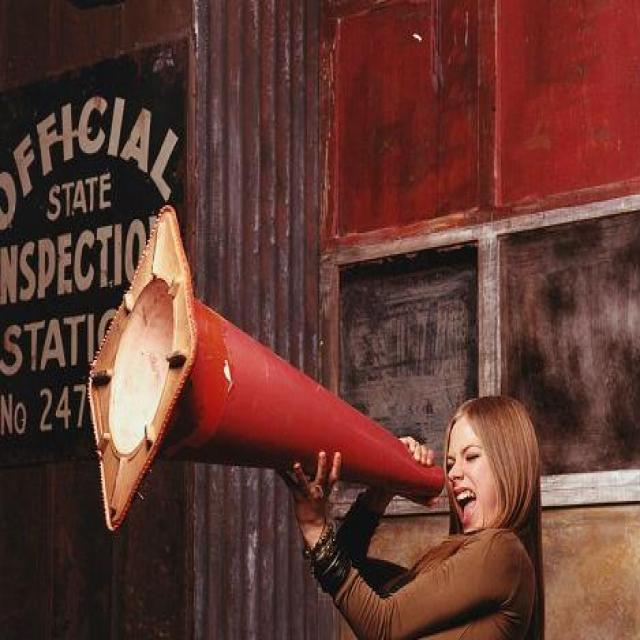Cone: (83, 205, 444, 541)
